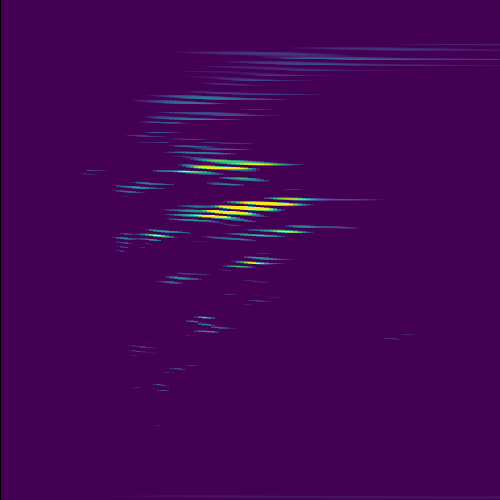semblance: (166, 191, 332, 224), (160, 157, 296, 181)
